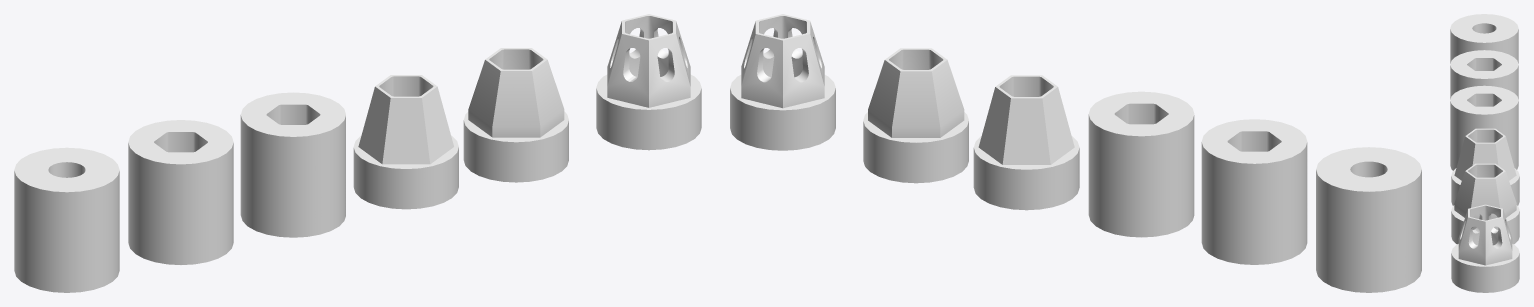
3 renders of one model, left to right at view 1: azimuth 30°, elevation 25°; view 2: azimuth 150°, elevation 25°; view 3: azimuth 270°, elevation 25°, orthographic. The views are drawn at different scales.
Visible parts, largest first — view 1: 川大五轴_工件, 川大五轴_工件002, 川大五轴_工件001, 川大五轴_工件013, 川大五轴_工件012, 川大五轴_工件014; view 2: 川大五轴_工件001, 川大五轴_工件002, 川大五轴_工件, 川大五轴_工件013, 川大五轴_工件012, 川大五轴_工件014; view 3: 川大五轴_工件014, 川大五轴_工件002, 川大五轴_工件013, 川大五轴_工件, 川大五轴_工件001, 川大五轴_工件012.
Boxes of the visible parts, x1,y1,x2,y2 form: 川大五轴_工件: (14,147,119,292); 川大五轴_工件002: (240,92,345,237); 川大五轴_工件001: (128,120,233,264); 川大五轴_工件013: (463,48,568,182); 川大五轴_工件012: (353,75,458,209); 川大五轴_工件014: (596,14,701,150); 川大五轴_工件001: (1201,119,1307,264); 川大五轴_工件002: (1088,91,1194,237); 川大五轴_工件: (1316,147,1421,292); 川大五轴_工件013: (863,48,968,183); 川大五轴_工件012: (973,75,1079,210); 川大五轴_工件014: (730,14,835,150); 川大五轴_工件014: (1451,204,1519,292); 川大五轴_工件002: (1450,85,1518,170); 川大五轴_工件013: (1451,163,1519,244); 川大五轴_工件: (1450,14,1518,63); 川大五轴_工件001: (1450,50,1518,99); 川大五轴_工件012: (1451,128,1519,205).
Bounding box in the file's own units: 85.82 × 12.26 × 11.79.
Materials: 1 (1 with a texture image).
